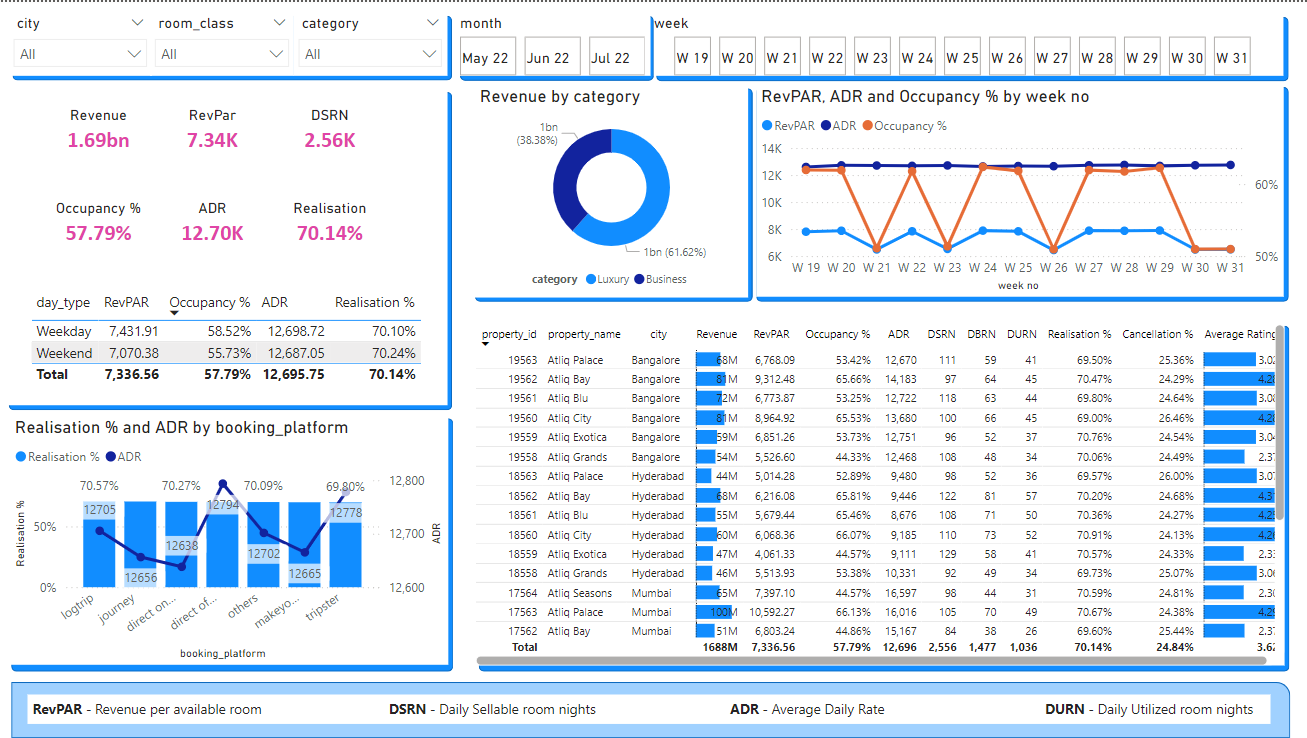

What the dashboard file says about the page in this screenshot:
{"tool":"powerbi","page":{"name":"Page 1","canvas":[1280,720],"ordinal":0},"visuals":[{"type":"shape","box":[11.2,665,1251.2,55],"z":0},{"type":"shape","box":[468.4,316.6,793.2,338.2],"z":1000},{"type":"shape","box":[8.8,87.5,433.8,311.2],"z":2000},{"type":"shape","box":[0,72.2,437.8,322.2],"z":3000},{"type":"shape","box":[11.2,407.1,432.4,247.6],"z":4000},{"type":"shape","box":[740,83.2,520.9,210],"z":5000},{"type":"shape","box":[464.4,84.4,271.6,208.8],"z":6000},{"type":"shape","box":[642.3,14.2,618.7,62.9],"z":7000},{"type":"shape","box":[450.5,13.2,189.5,63.6],"z":8000},{"type":"shape","box":[11.7,13.3,430,63.3],"z":9000},{"type":"tableEx","fields":{"Values":["dim_hotels.property_id","dim_hotels.property_name","dim_hotels.city","key_measures.Revenue","key_measures.RevPAR","key_measures.Occupancy %","key_measures.ADR","key_measures.DSRN","key_measures.DBRN","key_measures.DURN","key_measures.Realisation %","key_measures.Cancellation %"]},"box":[464.2,315.8,791.7,333.3],"z":10000},{"type":"advancedSlicerVisual","title":"month","fields":{"Values":["dim_date.mmm yy"]},"box":[450,11.8,186.4,60],"z":11000},{"type":"advancedSlicerVisual","title":"week","fields":{"Values":["dim_date.week no"]},"box":[640,11.8,615.9,60],"z":12000},{"type":"card","title":"Revenue","fields":{"Values":["key_measures.Revenue"]},"box":[46.9,101.2,100,50],"z":13000},{"type":"card","title":"RevPar","fields":{"Values":["key_measures.RevPAR"]},"box":[157.8,101.2,100,50],"z":14000},{"type":"card","title":"DSRN","fields":{"Values":["key_measures.DSRN"]},"box":[272.8,101.2,100,50],"z":15000},{"type":"card","title":"Occupancy %","fields":{"Values":["key_measures.Occupancy %"]},"box":[46.9,193.7,100,50],"z":16000},{"type":"card","title":"ADR","fields":{"Values":["key_measures.ADR"]},"box":[157.8,193.7,100,50],"z":17000},{"type":"card","title":"Realisation","fields":{"Values":["key_measures.Realisation %"]},"box":[272.8,193.7,100,50],"z":18000},{"type":"donutChart","fields":{"Y":["key_measures.Revenue"],"Category":["dim_hotels.category"]},"box":[464.4,81.9,267.5,206.9],"z":19000},{"type":"lineChart","fields":{"Y":["key_measures.RevPAR","key_measures.ADR"],"Y2":["key_measures.Occupancy %"],"Category":["dim_date.week no"]},"box":[739.8,81.9,516,206.7],"z":20000},{"type":"lineStackedColumnComboChart","fields":{"Y":["key_measures.Realisation %"],"Category":["fact_bookings.booking_platform"],"Y2":["key_measures.ADR"]},"box":[10,406.2,428.8,242.5],"z":21000},{"type":"tableEx","fields":{"Values":["dim_date.day_type","key_measures.RevPAR","key_measures.Occupancy %","key_measures.ADR","key_measures.Realisation %"]},"box":[24.3,277.1,397.1,104.3],"z":22000},{"type":"slicer","fields":{"Values":["dim_hotels.city"]},"box":[9.1,11.8,140,60],"z":23000},{"type":"slicer","fields":{"Values":["dim_rooms.room_class"]},"box":[147.3,11.8,140.9,60],"z":24000},{"type":"slicer","fields":{"Values":["dim_hotels.category"]},"box":[286.8,11.8,150,60],"z":25000},{"type":"textbox","box":[27.5,677.5,1216.2,28.8],"z":26000}]}

Visuals, with their boxes in screenshot pixels (x1, y1, x2, y2), scaled from the page's 1280x720 canvas onto the 1307x738 screenshot:
shape: 11,682,1289,737
shape: 478,325,1288,671
shape: 9,90,452,409
shape: 0,74,447,404
shape: 11,417,453,671
shape: 756,85,1287,301
shape: 474,87,752,301
shape: 656,15,1288,79
shape: 460,14,654,79
shape: 12,14,451,79
tableEx - dim_hotels.property_id x dim_hotels.property_name: 474,324,1282,665
"month" advancedSlicerVisual: 459,12,650,74
"week" advancedSlicerVisual: 654,12,1282,74
"Revenue" card: 48,104,150,155
"RevPar" card: 161,104,263,155
"DSRN" card: 279,104,381,155
"Occupancy %" card: 48,199,150,250
"ADR" card: 161,199,263,250
"Realisation" card: 279,199,381,250
donutChart - key_measures.Revenue x dim_hotels.category: 474,84,747,296
lineChart - key_measures.RevPAR x key_measures.ADR: 755,84,1282,296
lineStackedColumnComboChart - key_measures.Realisation % x fact_bookings.booking_platform: 10,416,448,665
tableEx - dim_date.day_type x key_measures.RevPAR: 25,284,430,391
slicer - dim_hotels.city: 9,12,152,74
slicer - dim_rooms.room_class: 150,12,294,74
slicer - dim_hotels.category: 293,12,446,74
textbox: 28,694,1270,724
